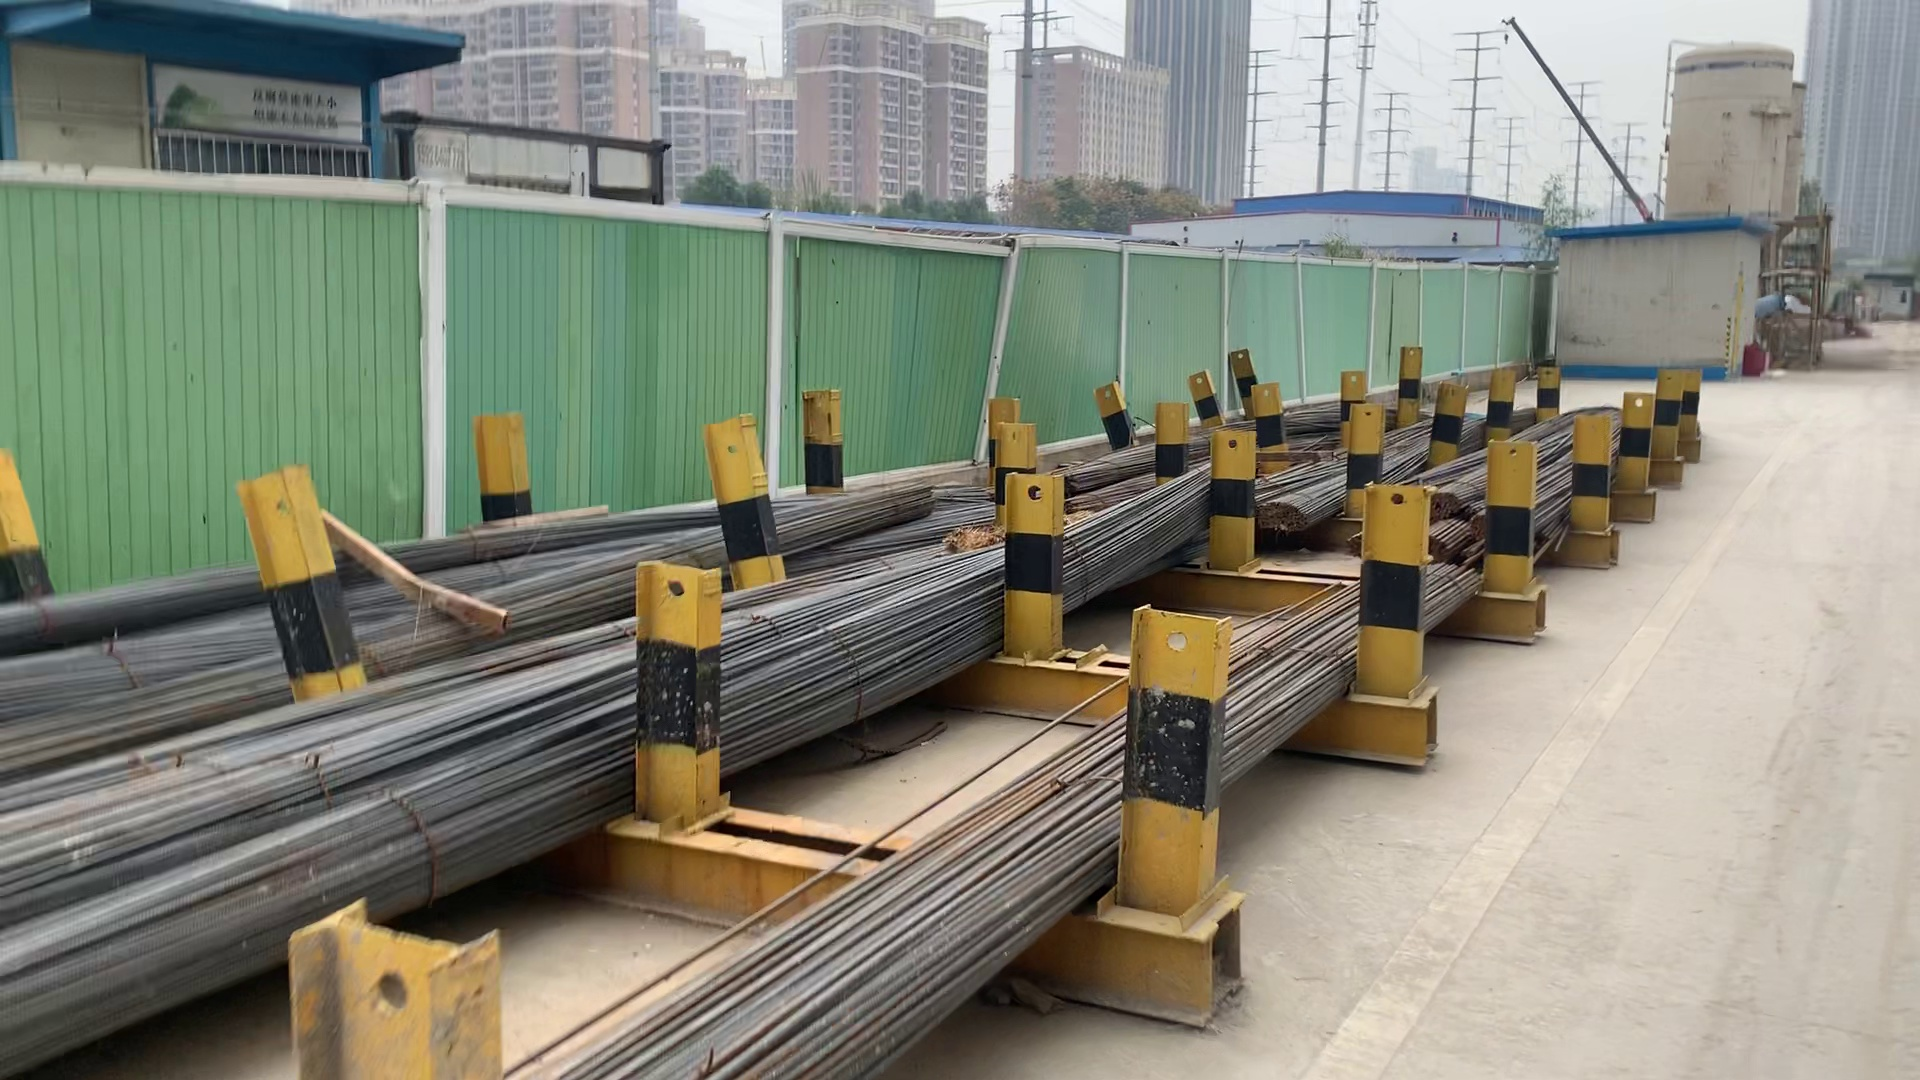rebar: (1253, 498, 1308, 535), (1429, 488, 1462, 520), (1425, 530, 1451, 556), (1473, 512, 1485, 535)
